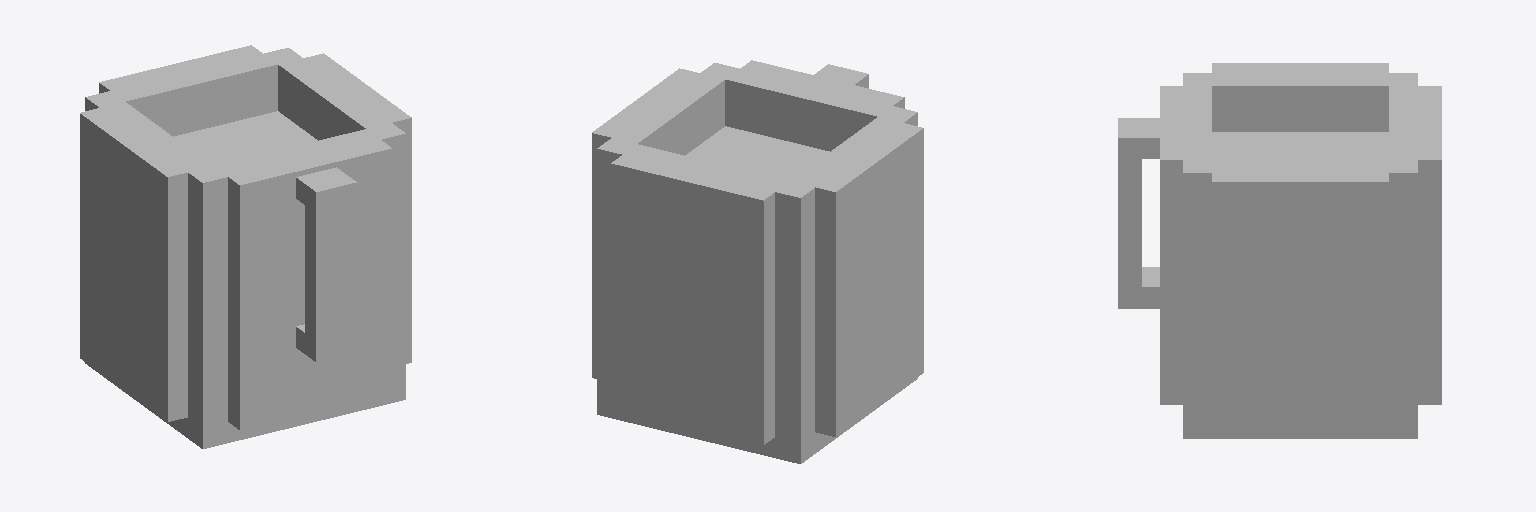
Rendered from mug_09.obj.
3 renders of one model, left to right at view 1: azimuth 30°, elevation 25°; view 2: azimuth 150°, elevation 25°; view 3: azimuth 270°, elevation 25°, orthographic.
Parts seen in each view (by area): view 1: cube; view 2: cube; view 3: cube.
Part boxes in pixels (bbox=[...]): cube: bbox=[80, 45, 411, 448]; cube: bbox=[592, 60, 923, 463]; cube: bbox=[1118, 63, 1441, 438].
Size of the model in its own units: 0.6 by 0.625 by 0.6875.